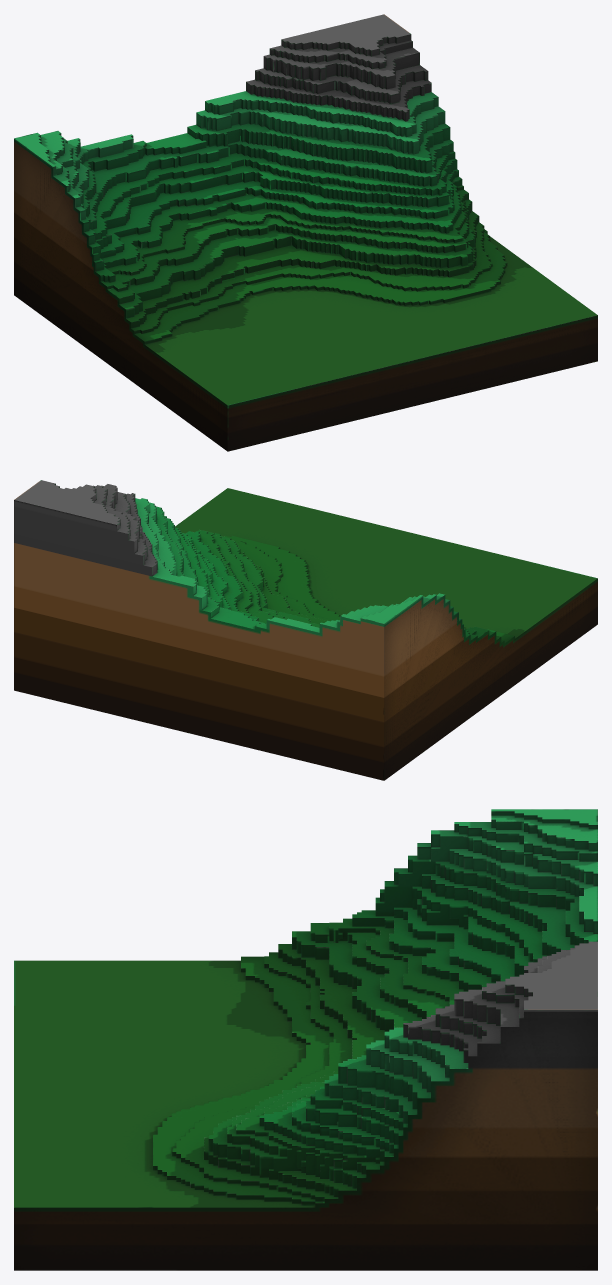
3 renders of one model, top to bottom at view 1: azimuth 30°, elevation 25°; view 2: azimuth 150°, elevation 25°; view 3: azimuth 270°, elevation 25°, orthographic. The views are drawn at different scales.
Parts seen in each view (by area): view 1: _C; view 2: _C; view 3: _C.
Part boxes in pixels (bbox=[...]): _C: bbox=[14, 14, 597, 451]; _C: bbox=[14, 480, 597, 780]; _C: bbox=[14, 809, 597, 1270].
Size of the model in its own units: 126 by 126 by 62.
Materials: 1 (1 with a texture image).
